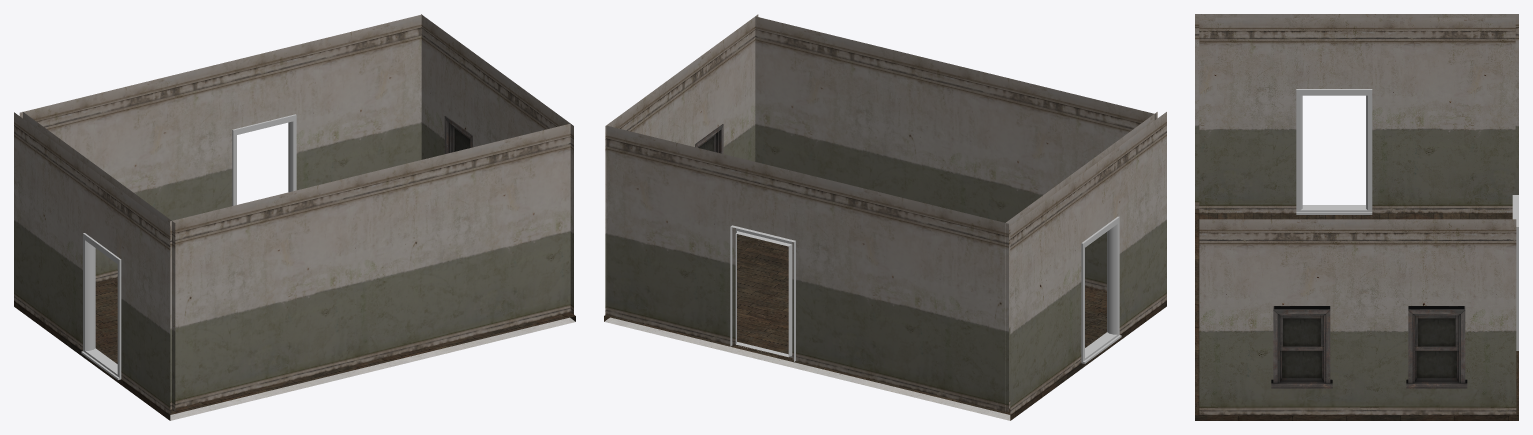
File: room_windows_6m_x_9m_door_left.fbx
The picture shows the model from 3 angles, left to right: view 1: azimuth 30°, elevation 25°; view 2: azimuth 150°, elevation 25°; view 3: azimuth 270°, elevation 25°; orthographic projection. The views are drawn at different scales.
Visible parts, largest first — view 1: room_windows_6m_x_9m_door_left; view 2: room_windows_6m_x_9m_door_left; view 3: room_windows_6m_x_9m_door_left.
Part boxes in pixels (box(x1,y1,x2,y2)): room_windows_6m_x_9m_door_left: box(14, 14, 575, 420); room_windows_6m_x_9m_door_left: box(604, 14, 1166, 420); room_windows_6m_x_9m_door_left: box(1195, 14, 1518, 420).
Size of the model in its own units: 930 by 412 by 600.
